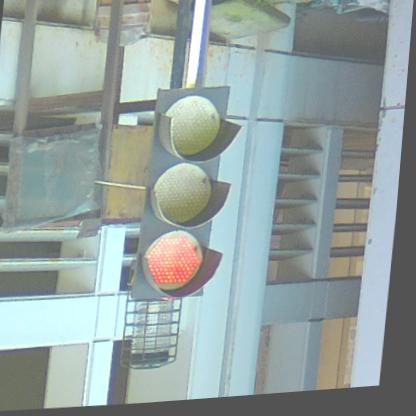red: (139, 85, 240, 303)
